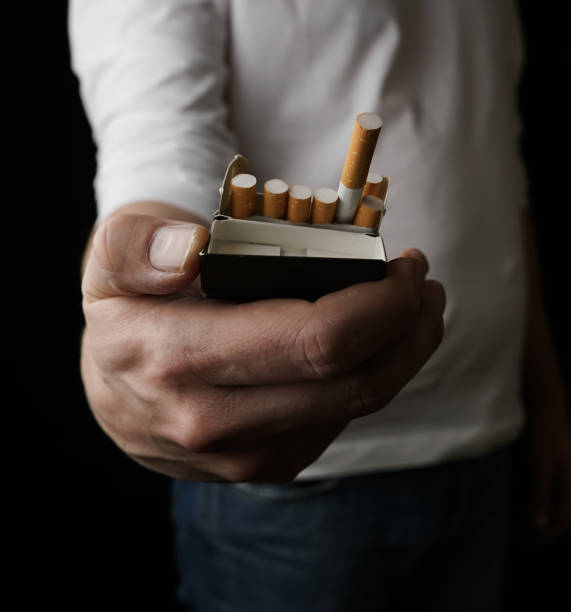cigarette: (197, 152, 390, 304), (333, 109, 384, 225), (229, 168, 258, 218), (352, 193, 387, 233), (262, 176, 289, 220), (311, 186, 339, 227), (287, 183, 313, 226), (364, 169, 388, 198)
